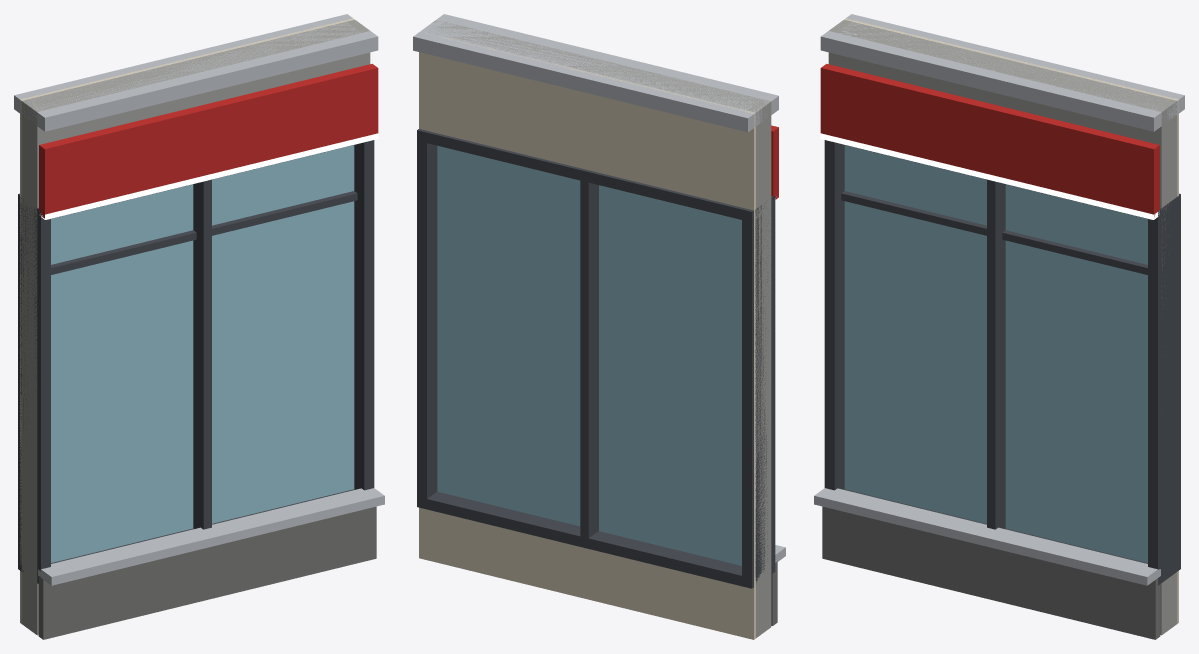
File: Store24_Wall_Window_Big.glb
The picture shows the model from 3 angles, left to right: view 1: azimuth 30°, elevation 25°; view 2: azimuth 150°, elevation 25°; view 3: azimuth 330°, elevation 25°; orthographic projection.
Visible parts, largest first — view 1: Store24_Wall_Window_Big; view 2: Store24_Wall_Window_Big; view 3: Store24_Wall_Window_Big.
Boxes of the visible parts, <box> form: Store24_Wall_Window_Big: <box>14,14,384,639</box>; Store24_Wall_Window_Big: <box>413,14,785,639</box>; Store24_Wall_Window_Big: <box>814,14,1184,639</box>.
Bounding box in the file's own units: 2 × 3 × 0.39.
1 material, 1 textured.
